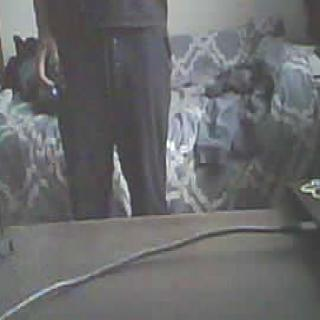Navy Sweatpants: (60, 26, 173, 218)
